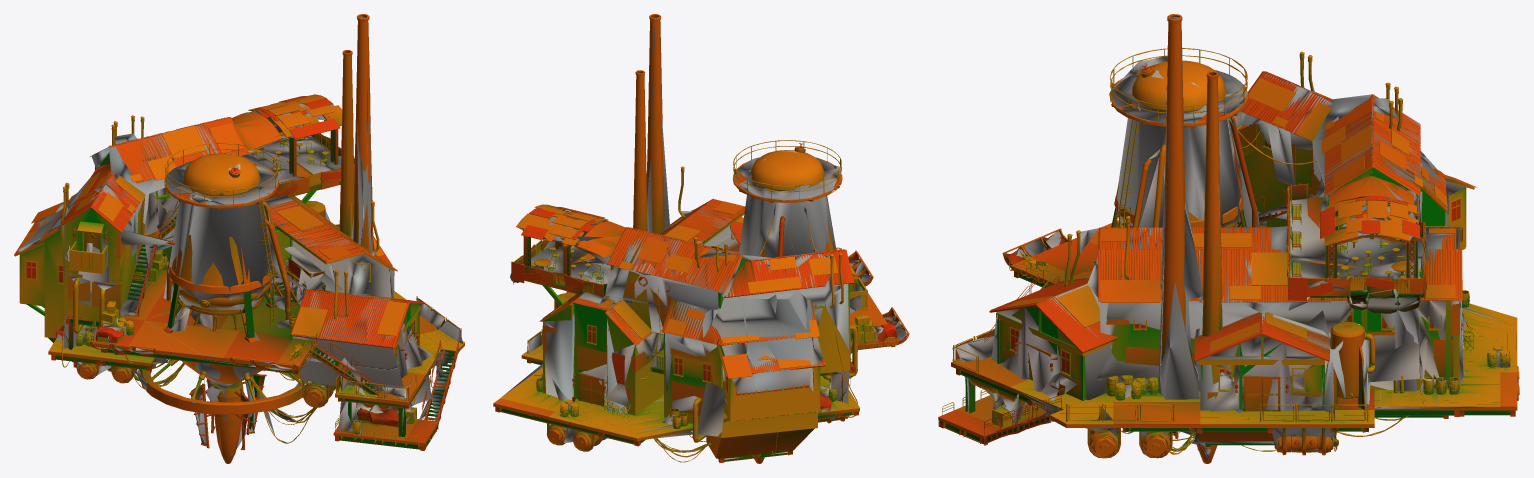
File: KB3D_CSK_BldgSmBrewery_A.glb
3 views of the same model, side by side, from view 1: azimuth 30°, elevation 25°; view 2: azimuth 150°, elevation 25°; view 3: azimuth 270°, elevation 25° (orthographic). The views are drawn at different scales.
Visible parts, largest first — view 1: L0, L2, L1; view 2: L0, L2, L1; view 3: L0, L2, L1.
Boxes of the visible parts, x1,y1,x2,y2 form: L0: (14,14,464,463); L2: (17,15,462,455); L1: (16,14,456,458); L0: (493,14,909,463); L2: (502,15,907,459); L1: (495,14,908,462); L0: (938,14,1519,463); L2: (956,16,1510,458); L1: (939,15,1519,457).
Bounding box in the file's own units: 23.99 × 29.94 × 30.43.
